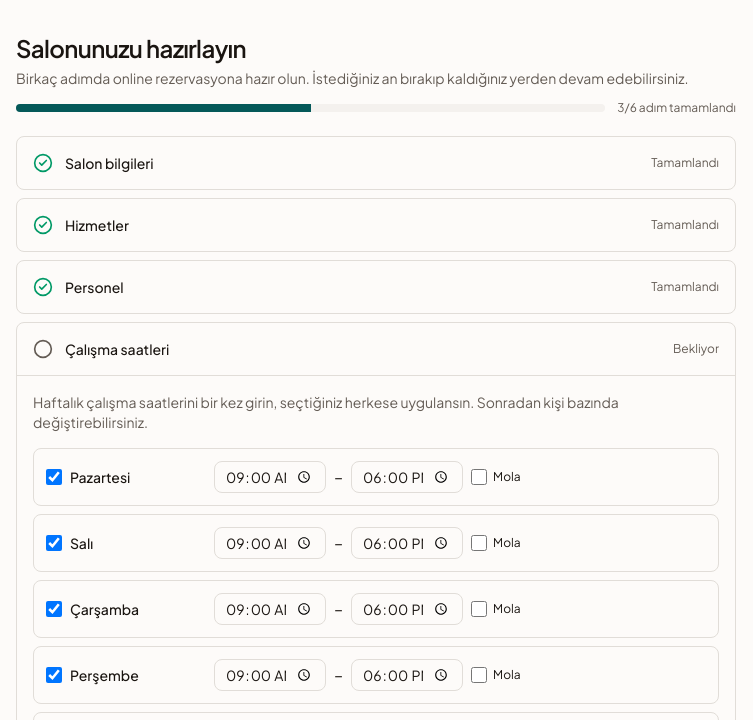
Test: hours step › a day can be closed; an inconsistent day is explained and not sent
Replace the text in the time field named "Salı Başlangıç" with "20:00". click: (270, 543)
box: [214,527,326,559]
(page scrolled)
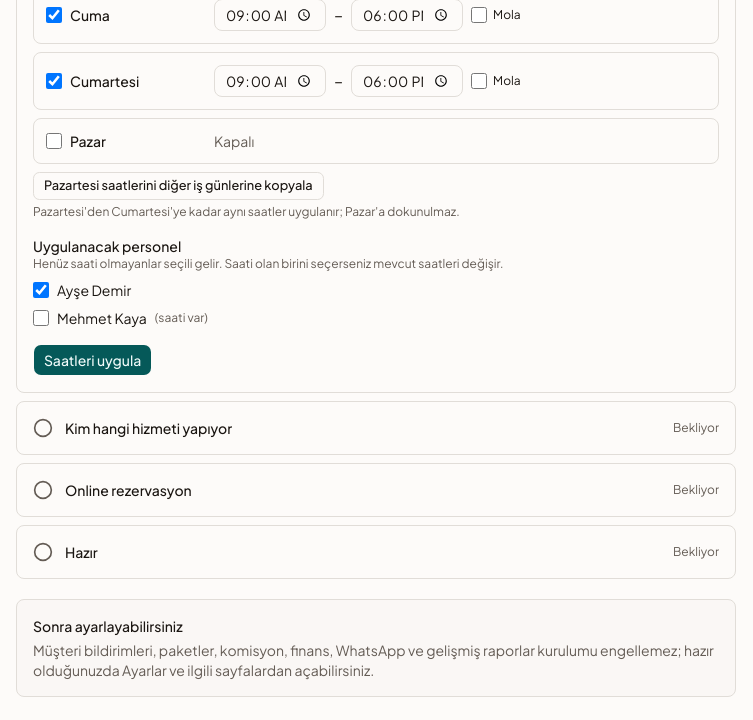
Click the button "Saatleri uygula". click: click(93, 360)
box: [33,344,152,376]
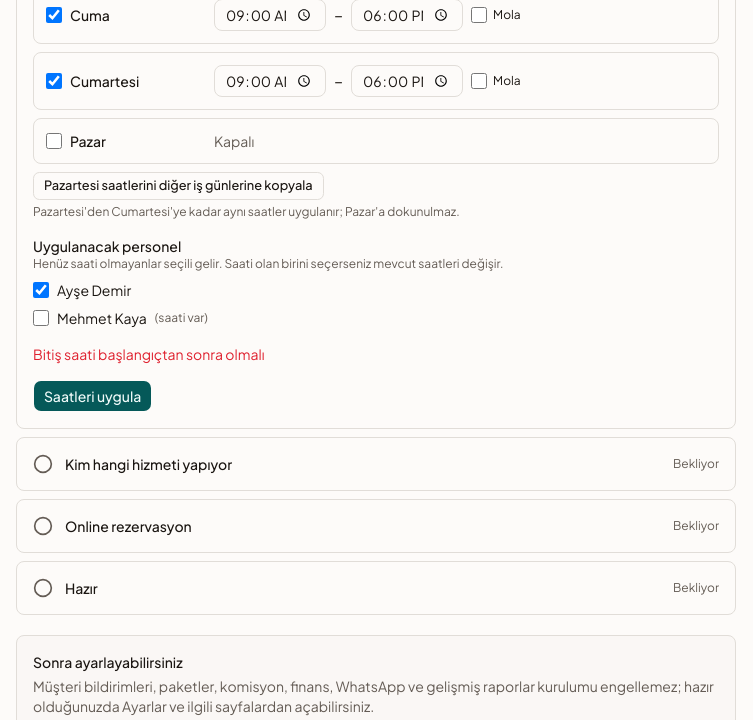
Result: the message reads "Bitiş saati başlangıçtan sonra olmalı" at [33,345,264,363]
